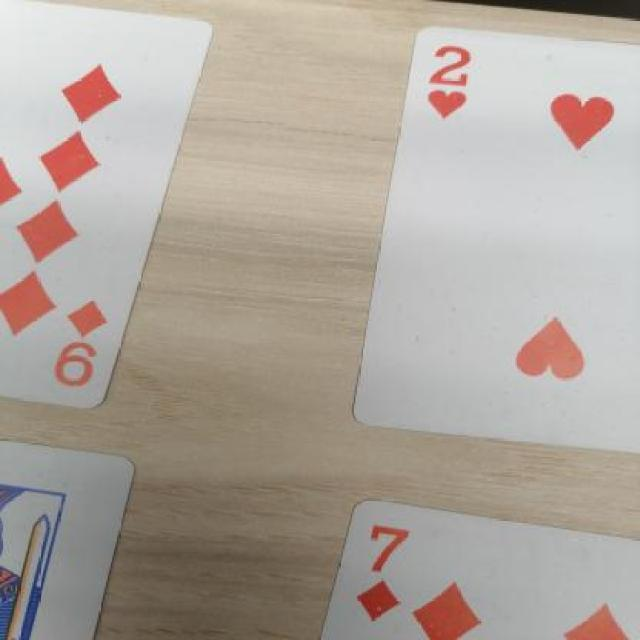2H: (404, 35, 507, 139)
7D: (346, 507, 443, 621)
9D: (26, 282, 131, 415)
